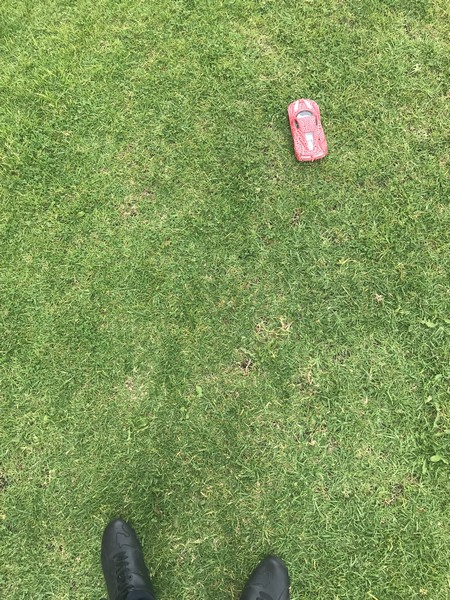RC: (286, 99, 331, 164)
